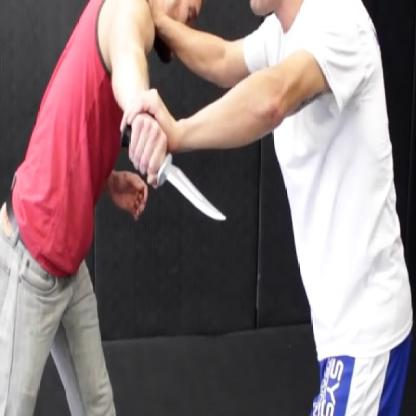knife: (119, 120, 236, 238)
